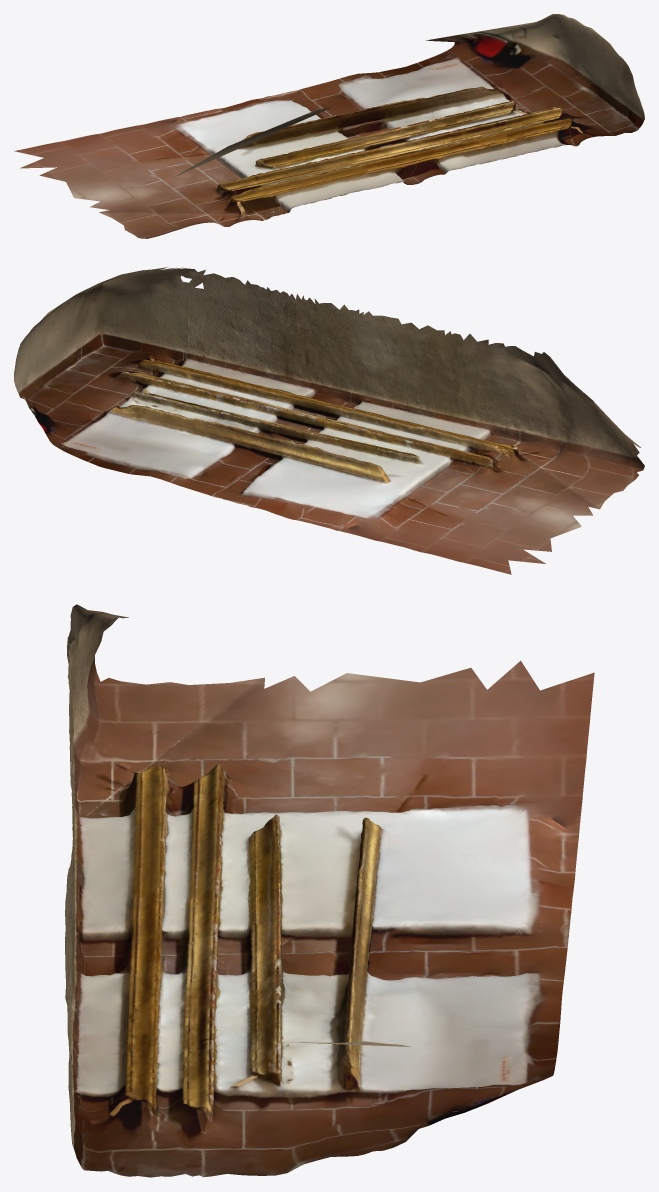
3 views of the same model, one above another, from view 1: azimuth 30°, elevation 25°; view 2: azimuth 150°, elevation 25°; view 3: azimuth 270°, elevation 25° (orthographic). The views are drawn at different scales.
Visible parts, largest first — view 1: Node; view 2: Node; view 3: Node.
Part boxes in pixels (left/top/right/bottom): Node: left=14, top=14, right=644, bottom=238; Node: left=14, top=267, right=644, bottom=574; Node: left=65, top=604, right=594, bottom=1177.
Bounding box in the file's own units: 5.12 × 0.9601 × 2.27.
1 material, 1 textured.
